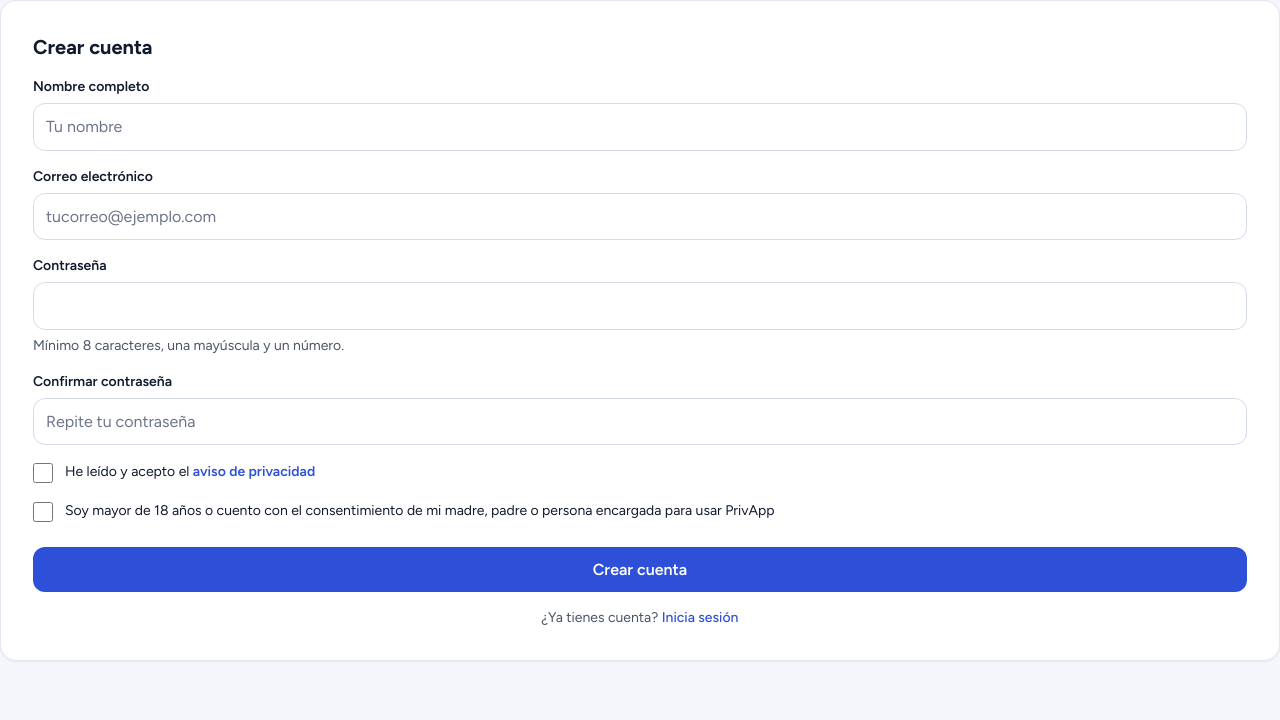
RegisterForm › exige aceptar el aviso de privacidad
The image size is (1280, 720).
In the field labelled "Nombre completo": (640, 127) [33,103,1247,151], type "Ana López"
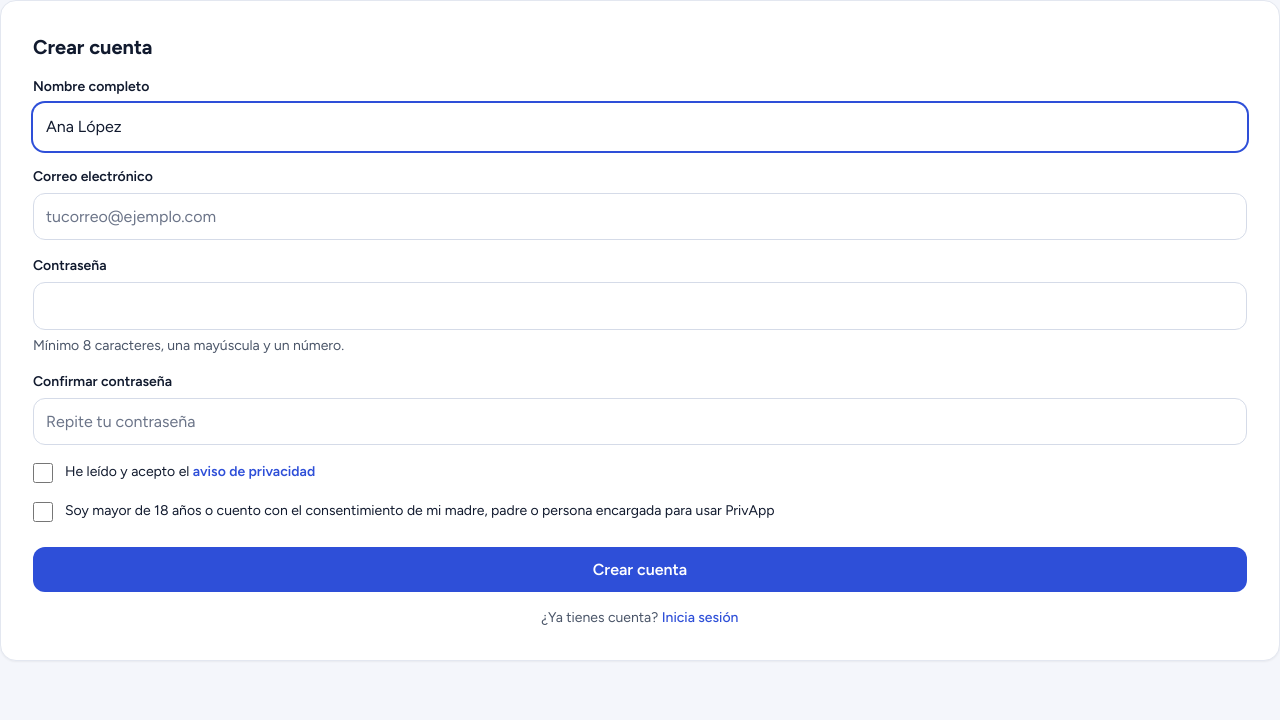
In the field labelled "Correo electrónico": (640, 216) [33,193,1247,240], type "ana@privapp.test"
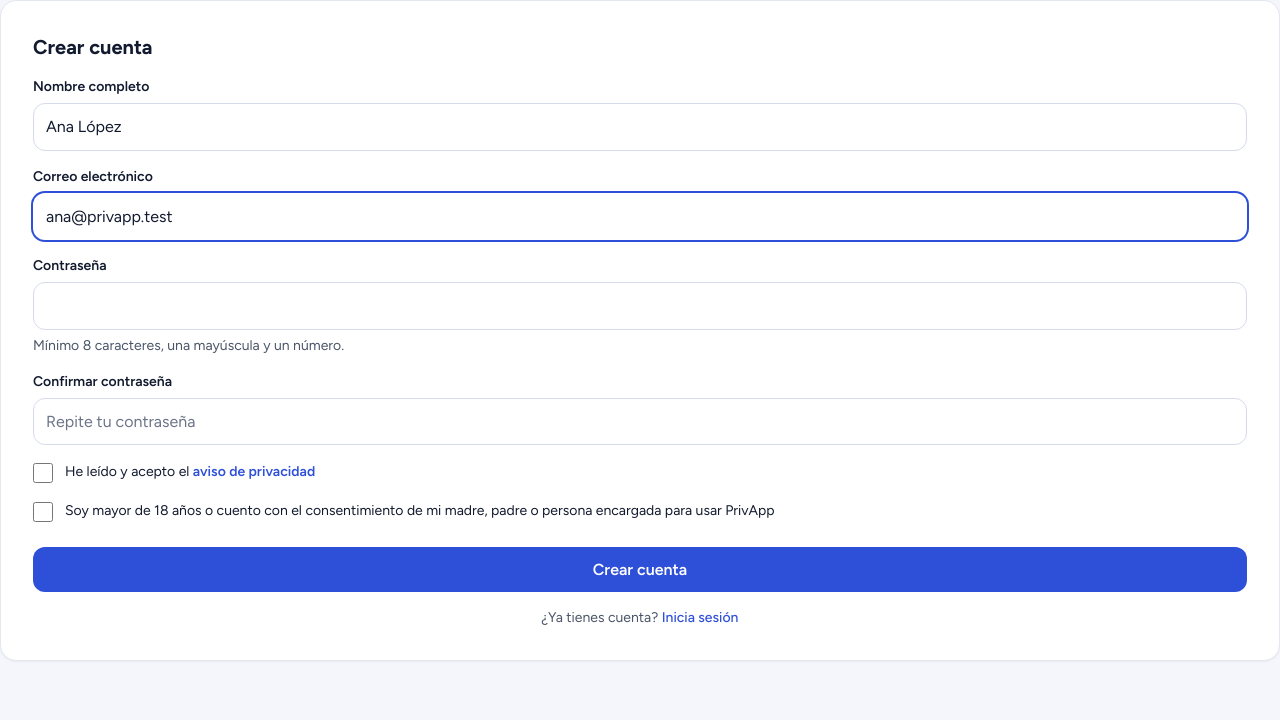
In the password field labelled "Contraseña": (640, 306) [33,282,1247,330], type "Segura123"
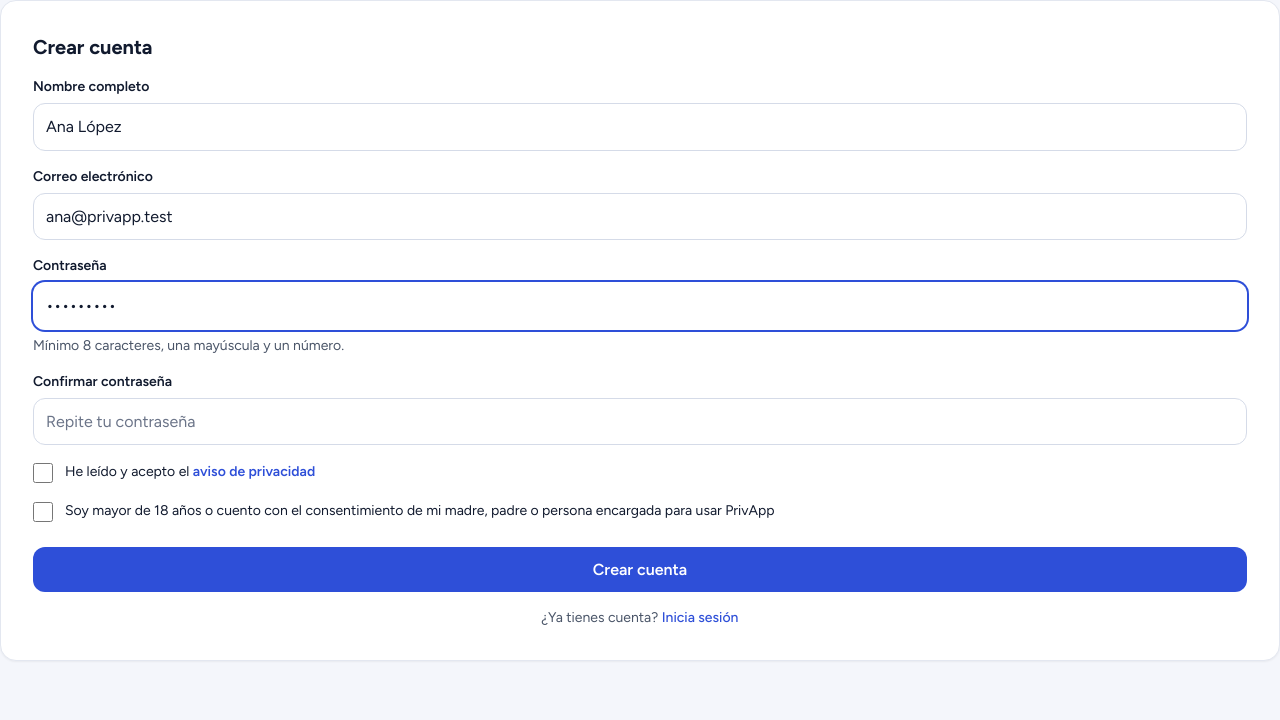
In the password field labelled "Confirmar contraseña": (640, 422) [33,398,1247,445], type "Segura123"
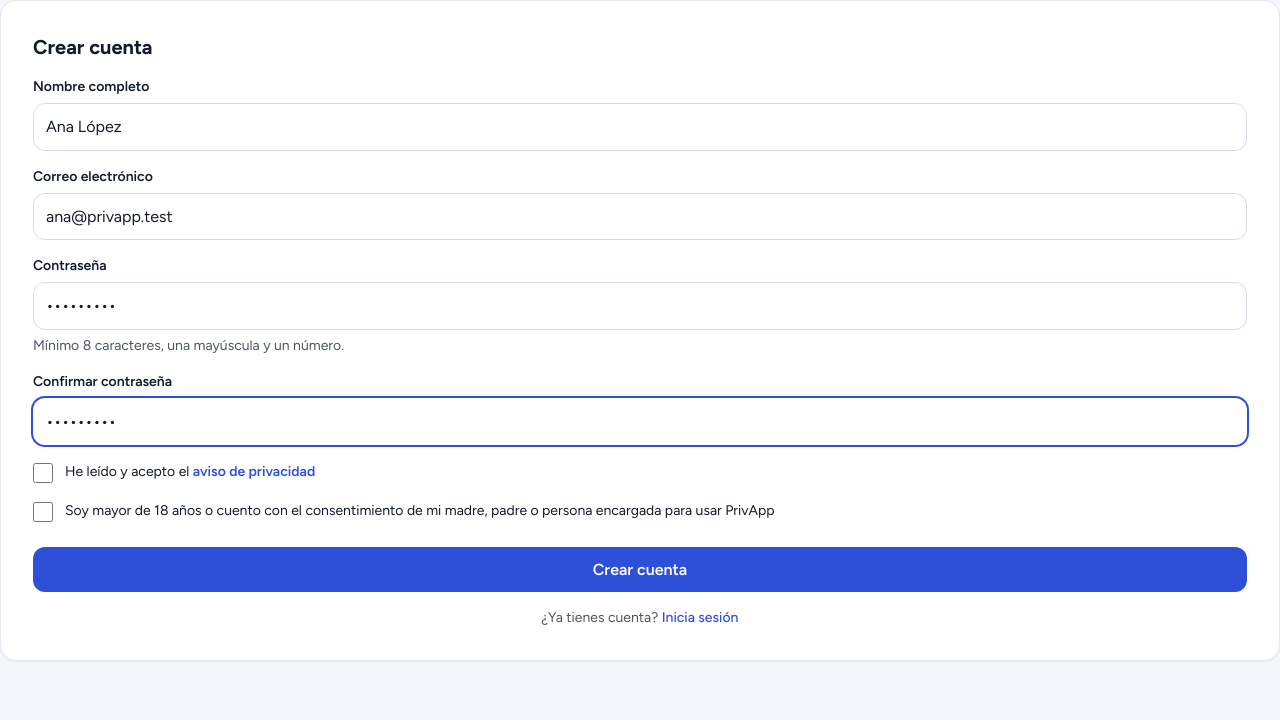
Click the checkbox labelled "mayor de 18 años": click(43, 512) [33,502,53,522]
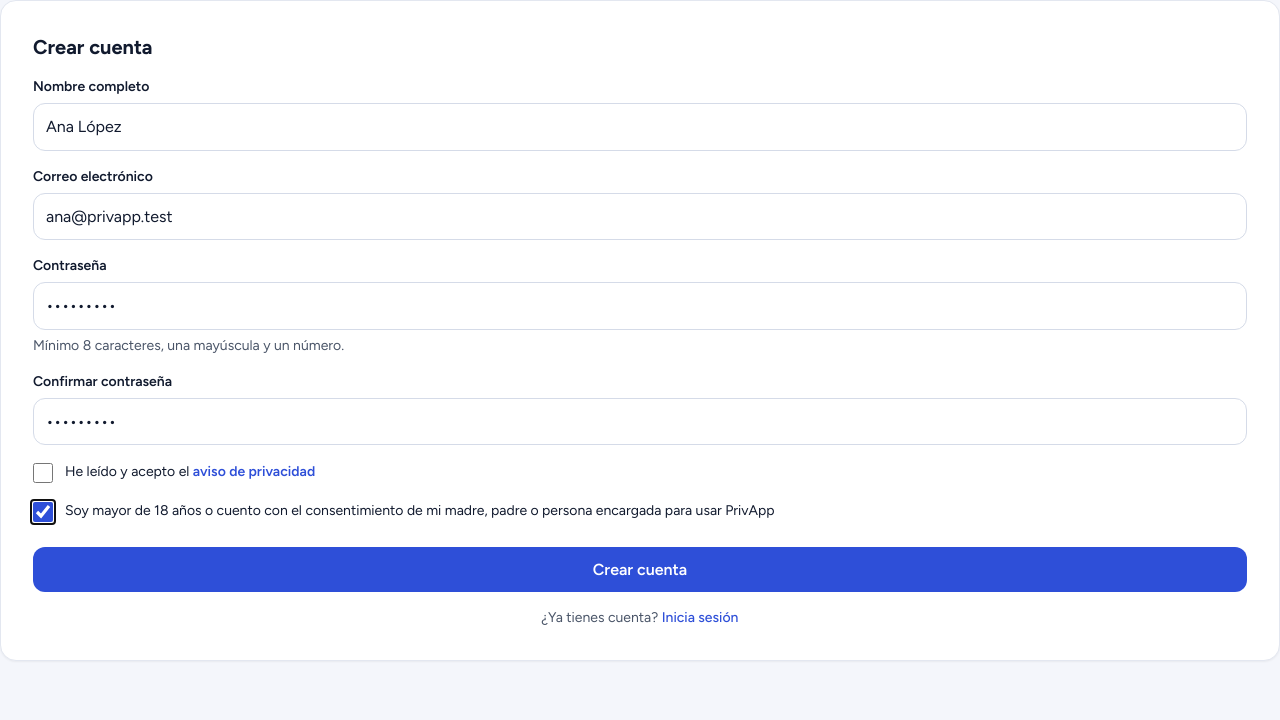
Click the button "Crear cuenta": click(640, 570) [33,547,1247,592]
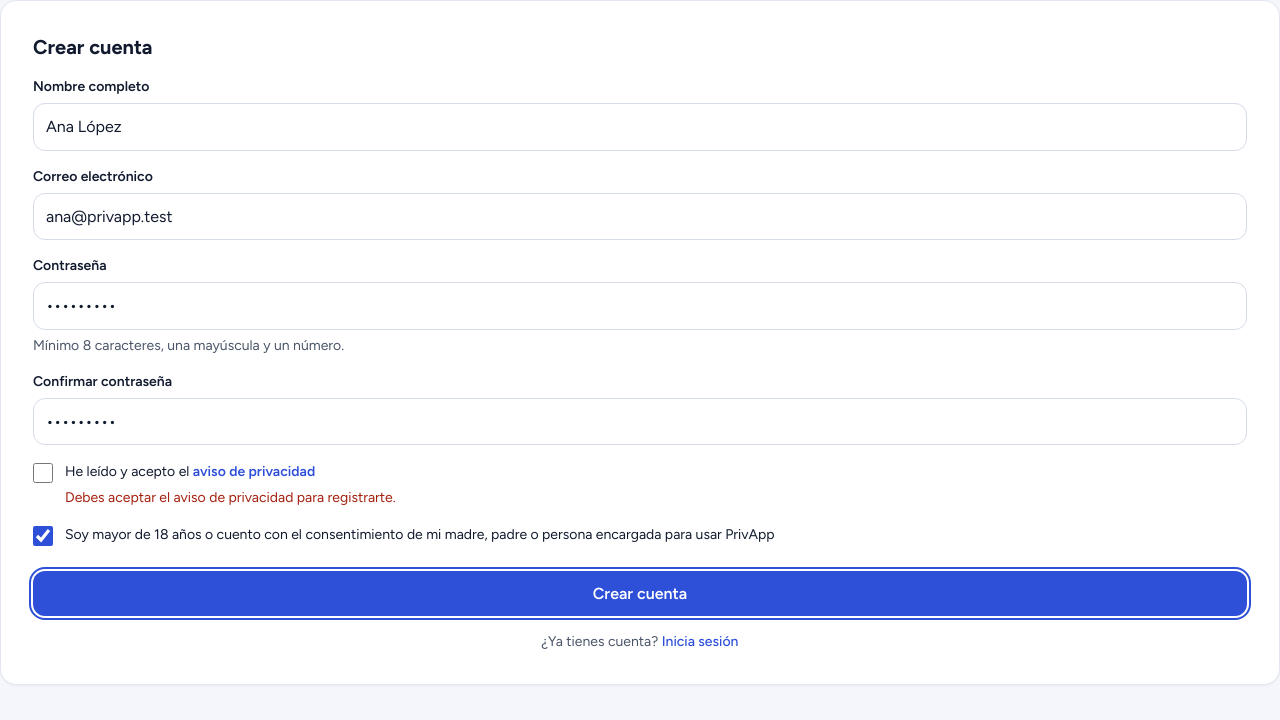
Result: the text "Debes aceptar el aviso de privacidad para registrarte." is shown at [65,489,396,506]
